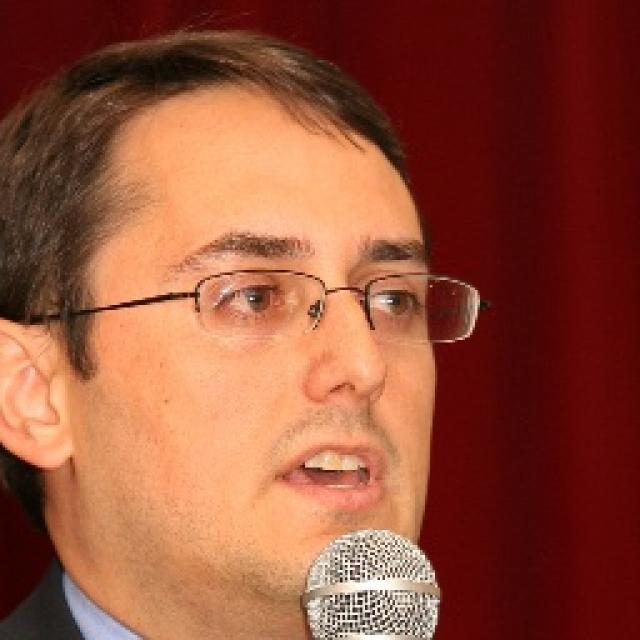earlobe: (22, 418, 74, 470)
eye: (212, 275, 290, 320), (360, 280, 425, 325)
nose: (304, 388, 387, 434)
wholeear: (0, 314, 74, 470)
